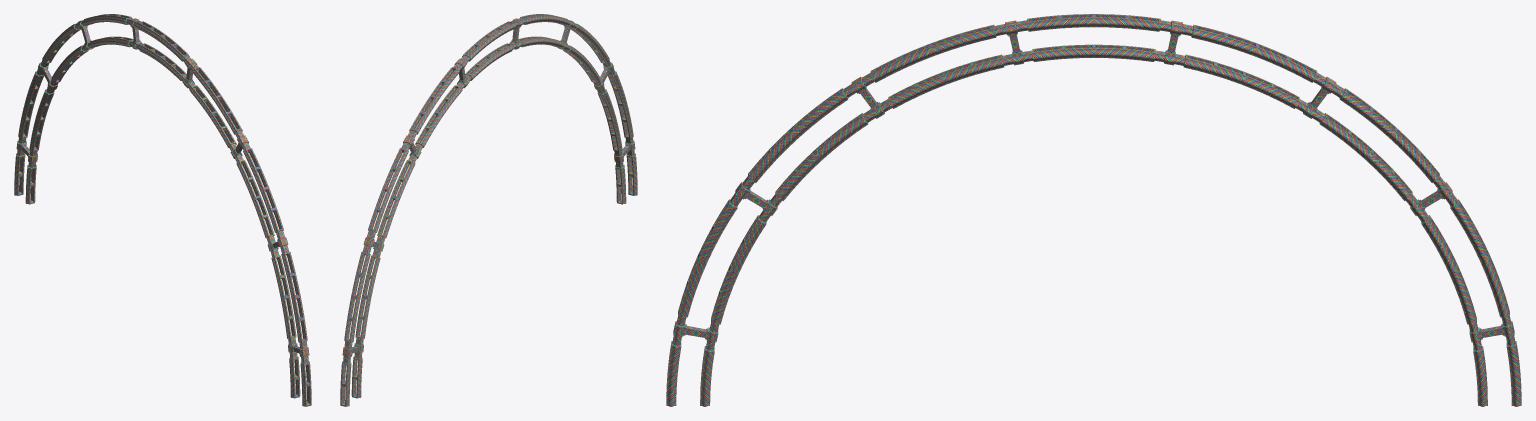
Rendered from base_lattice_lrg_01.FBX.
3 renders of one model, left to right at view 1: azimuth 30°, elevation 25°; view 2: azimuth 150°, elevation 25°; view 3: azimuth 270°, elevation 25°, orthographic. The views are drawn at different scales.
Bounding box in the file's own units: 397 × 10993 × 21987.
Materials: 1 (1 with a texture image).
